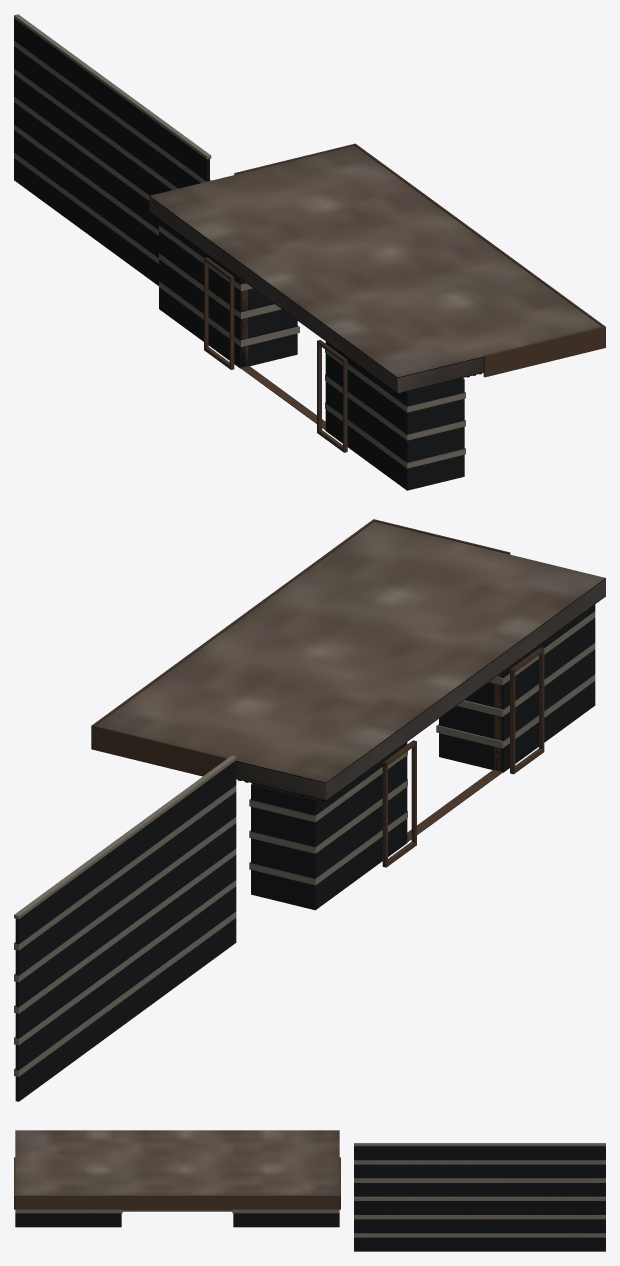
File: arrival_entry.glb
3 views of the same model, one above another, from view 1: azimuth 30°, elevation 25°; view 2: azimuth 150°, elevation 25°; view 3: azimuth 270°, elevation 25° (orthographic). The views are drawn at different scales.
Visible parts, largest first — view 1: arrival_entry; view 2: arrival_entry; view 3: arrival_entry.
Part boxes in pixels (x1,y1,x2,y2): arrival_entry: (14, 14, 605, 490); arrival_entry: (14, 519, 605, 1101); arrival_entry: (14, 1130, 605, 1251).
Bounding box in the file's own units: 4.34 × 3.3 × 16.44.
1 material, 1 textured.
